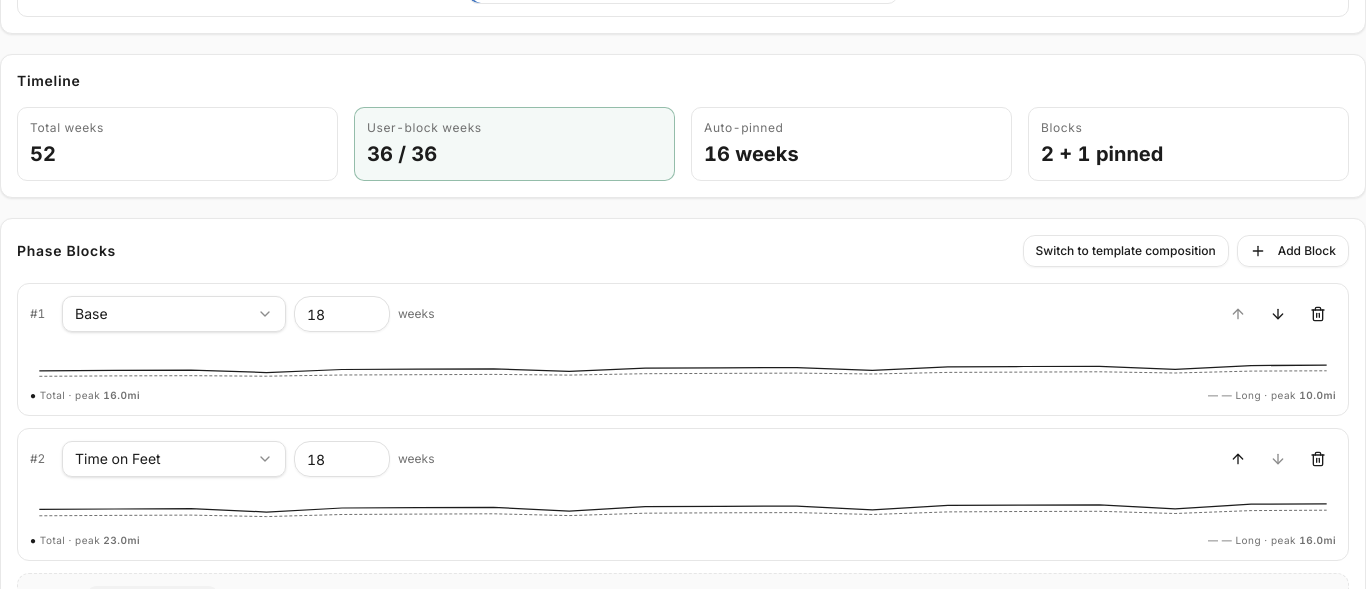
Scenario: Planner block editor › adds a new block when Add Block is clicked
(page scrolled)
Click the button with test id "planner-add-block": [1293, 251] box [1237,235,1349,267]
(page scrolled)
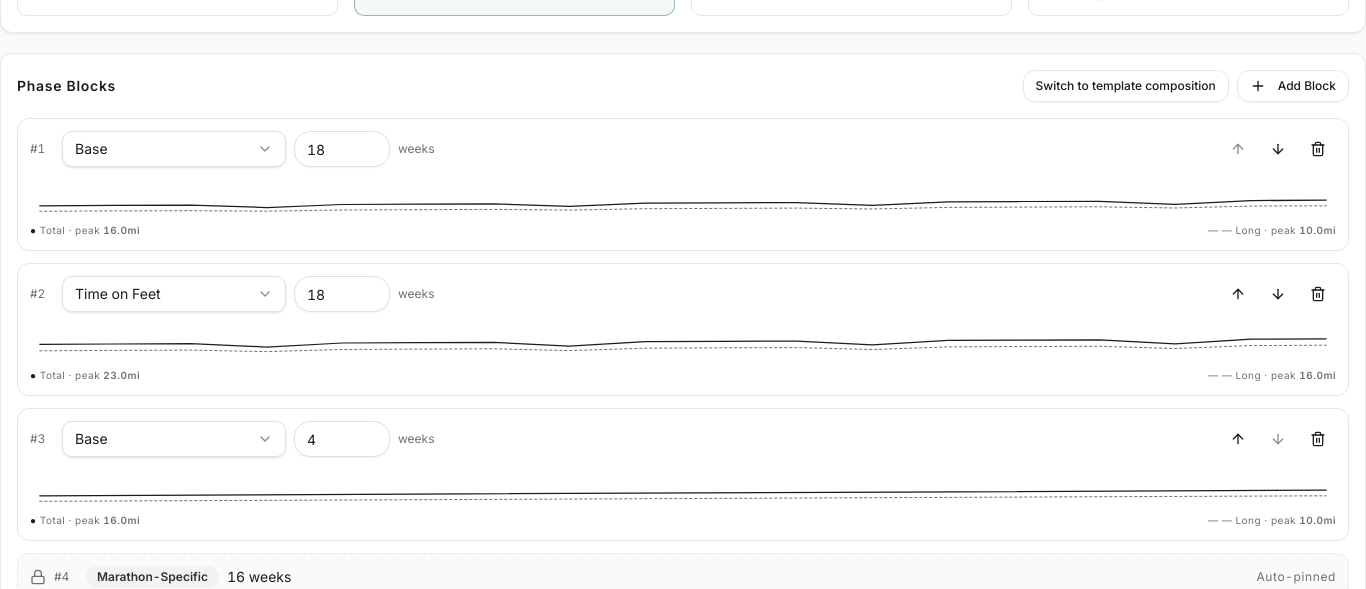
expect the number field with test id "planner-block-2-weeks" holds "4": met, box [294,421,390,457]
